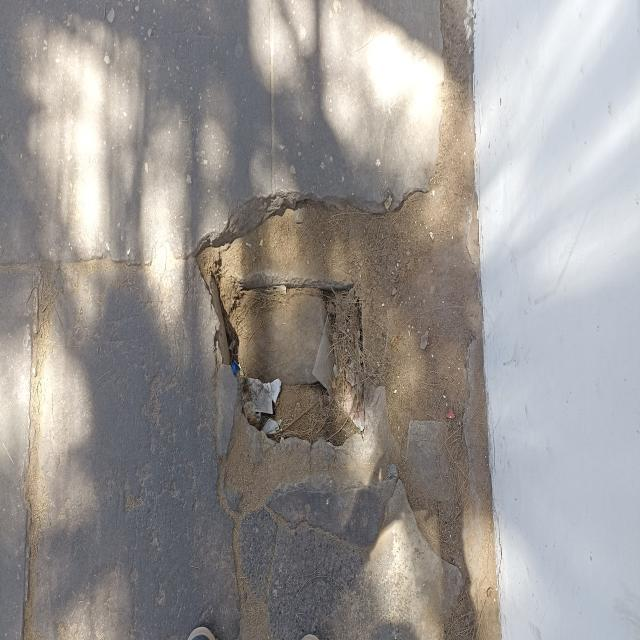hole: (187, 191, 400, 517)
